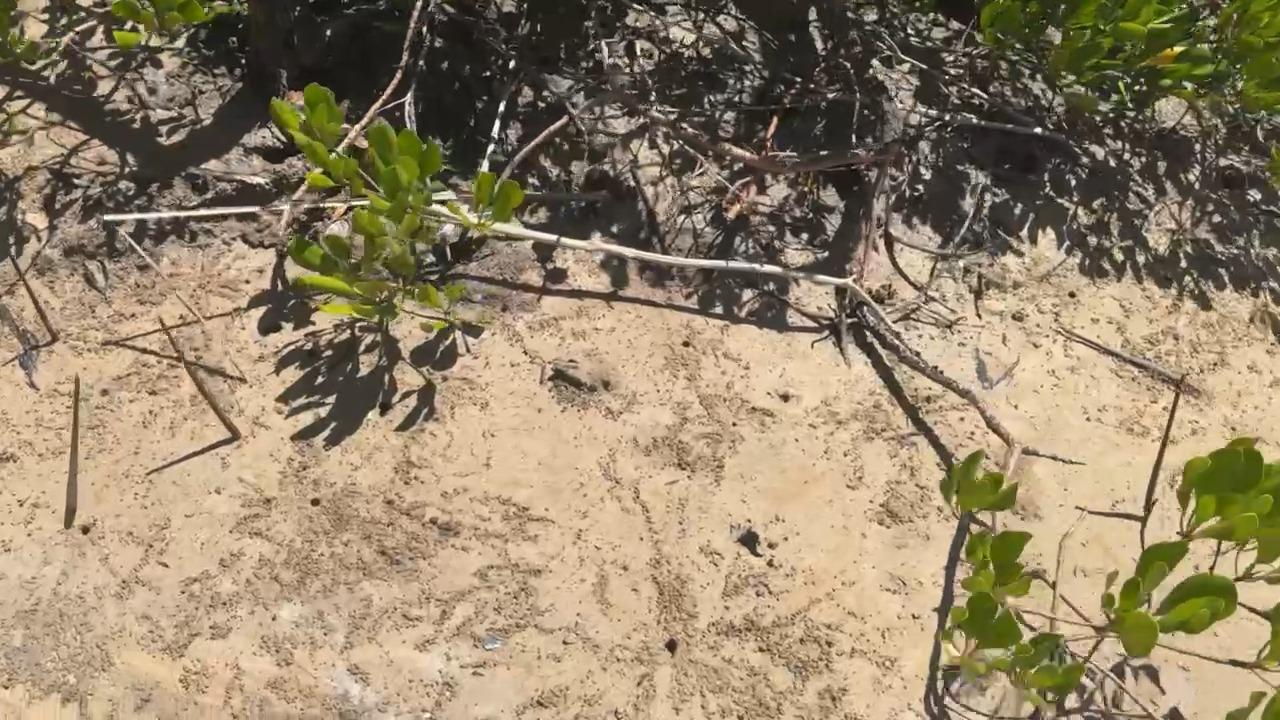Tree: (111, 226, 249, 386), (158, 316, 243, 443), (1140, 391, 1182, 523), (8, 247, 59, 343), (64, 374, 82, 529)
